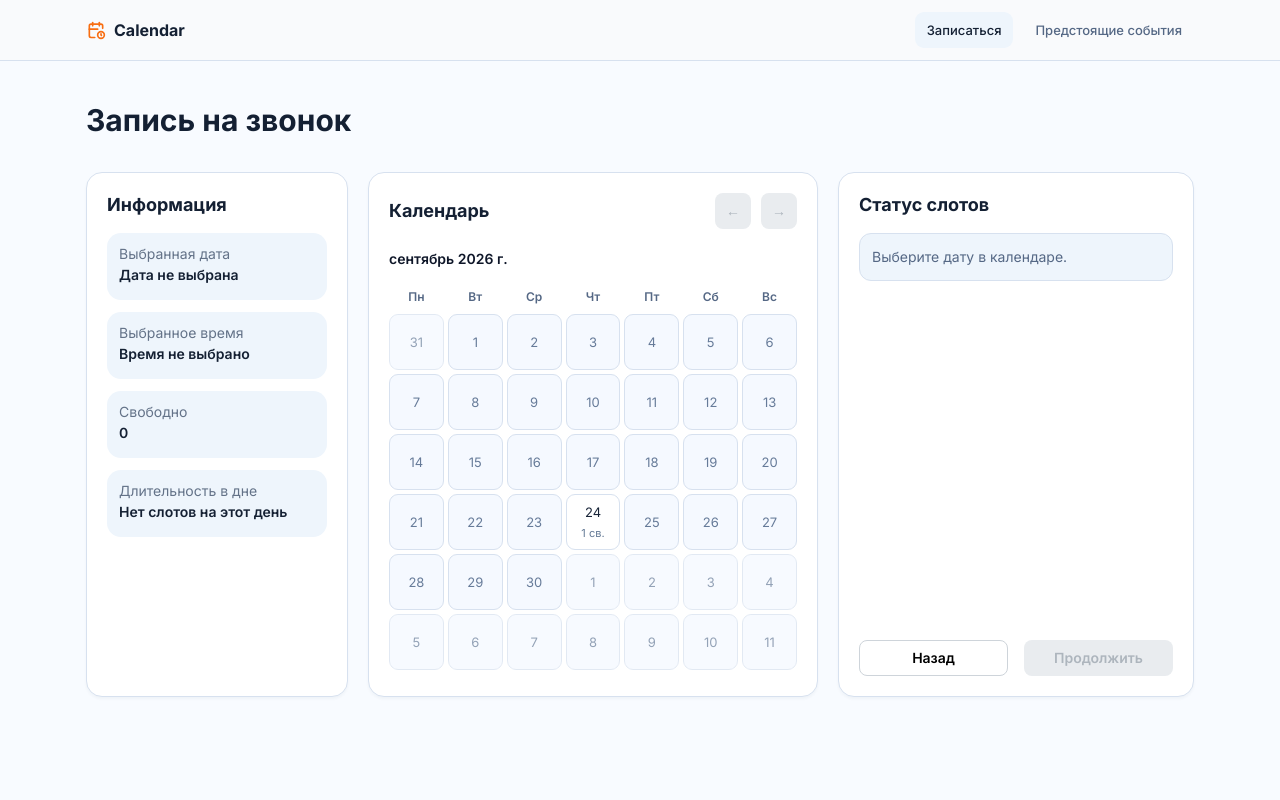
Test: calendar pages › hides stale slots after a conflict until availability can be reloaded
Click the button with aria-label "24 сентября": (593, 522) left=566, top=494, right=620, bottom=550
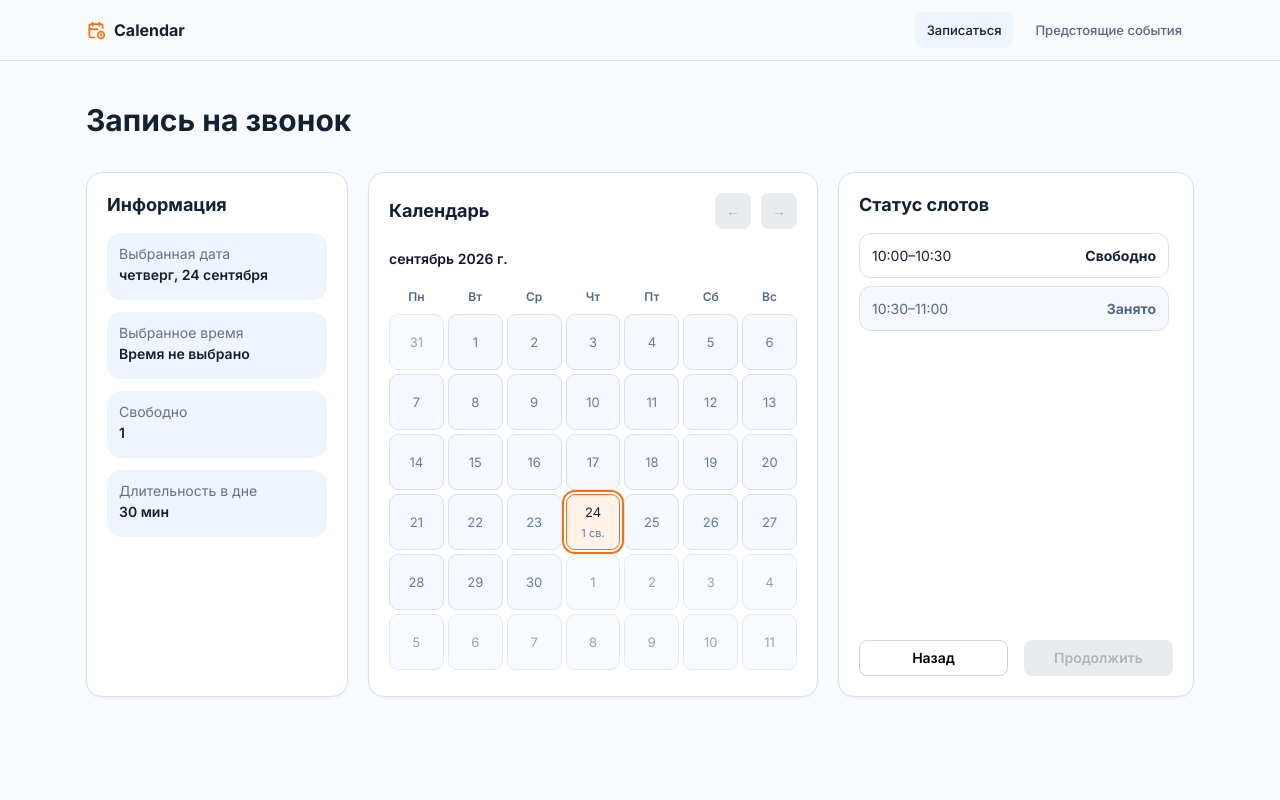
Click the button "10:00–10:30 Свободно": (890, 256) left=859, top=233, right=1169, bottom=278
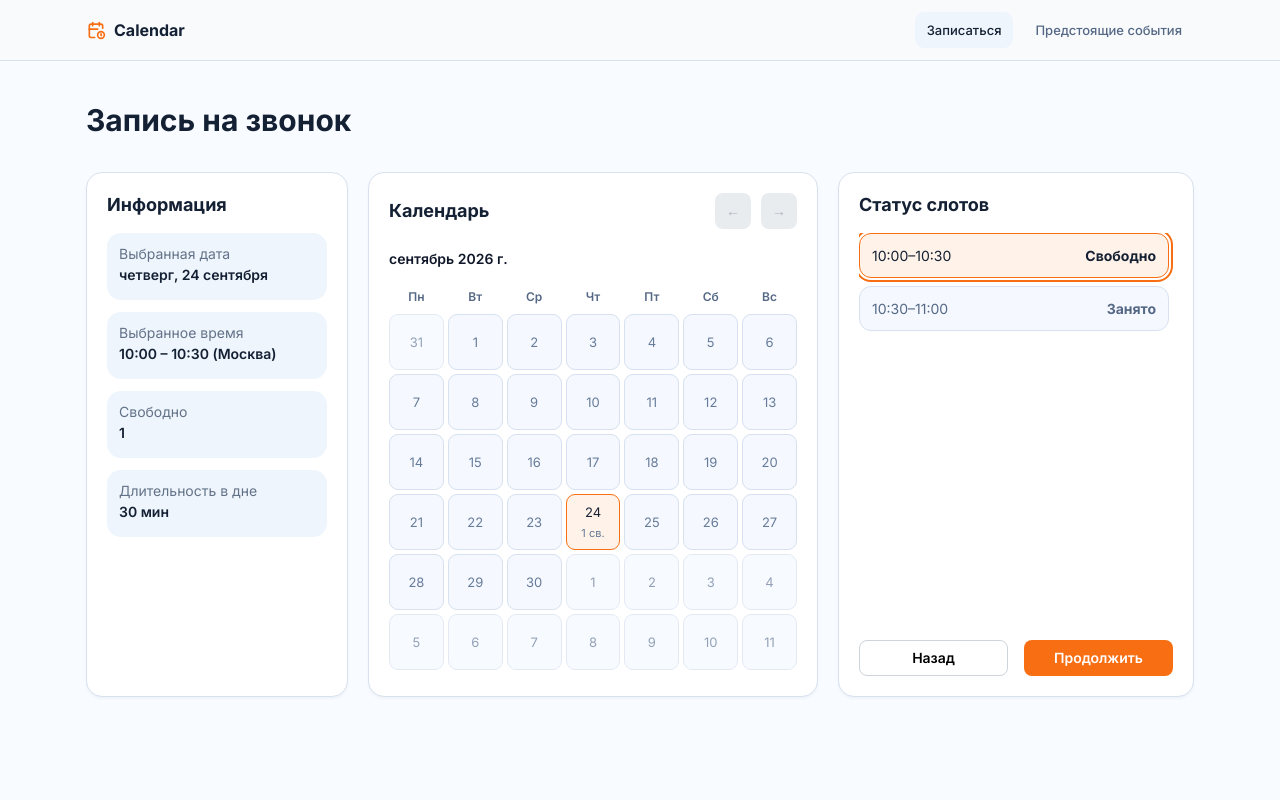
Click the button "Продолжить": (1098, 658) left=1024, top=640, right=1173, bottom=676
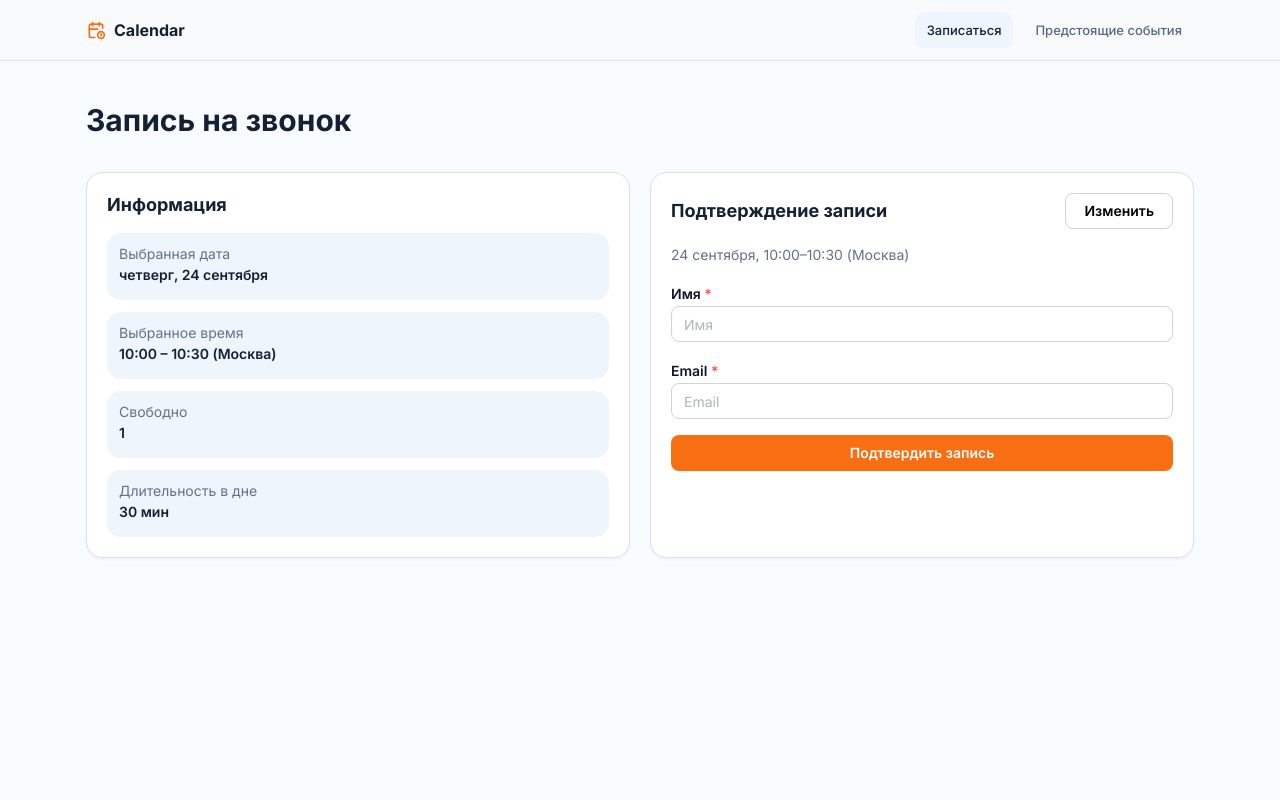
In the field labelled "Имя": (922, 324) left=671, top=306, right=1173, bottom=342, type "Guest"
In the field labelled "Email": (922, 401) left=671, top=383, right=1173, bottom=419, type "guest@example.com"
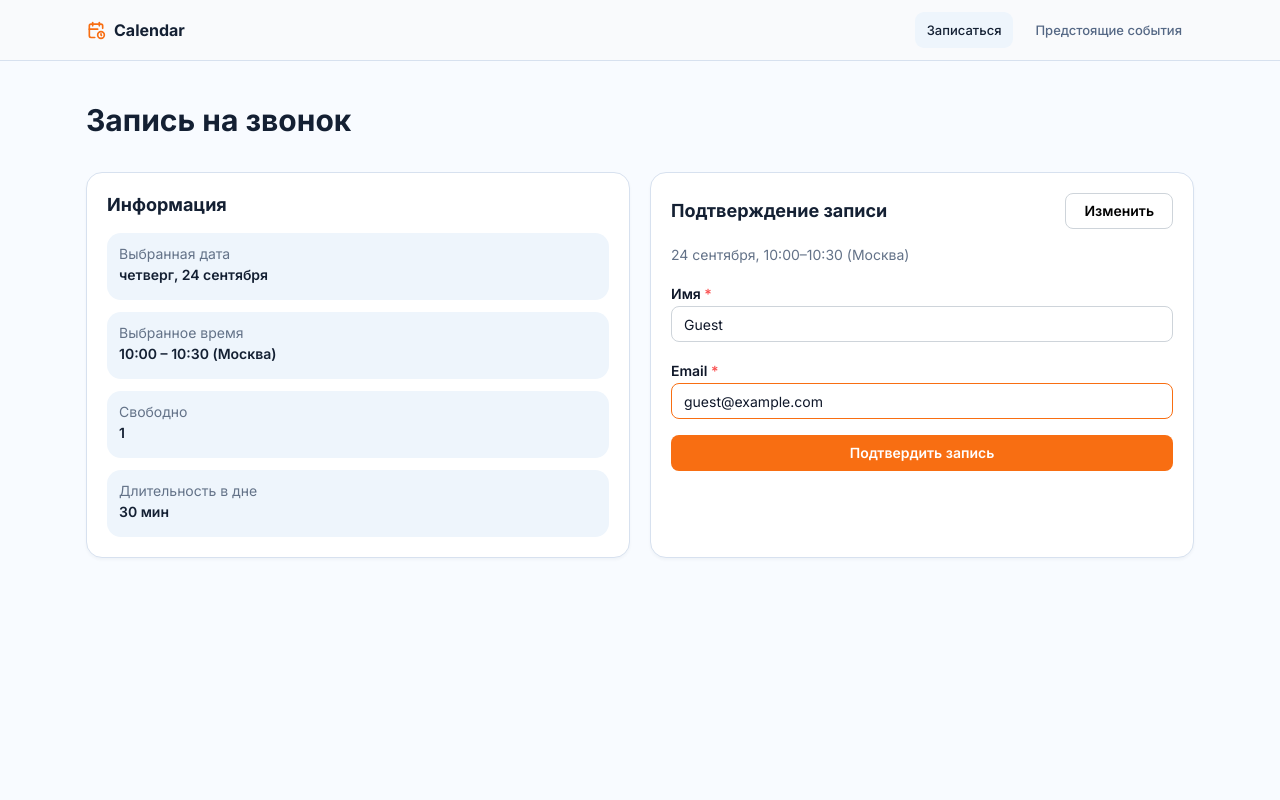
Click the button "Подтвердить запись": (922, 453) left=671, top=435, right=1173, bottom=471
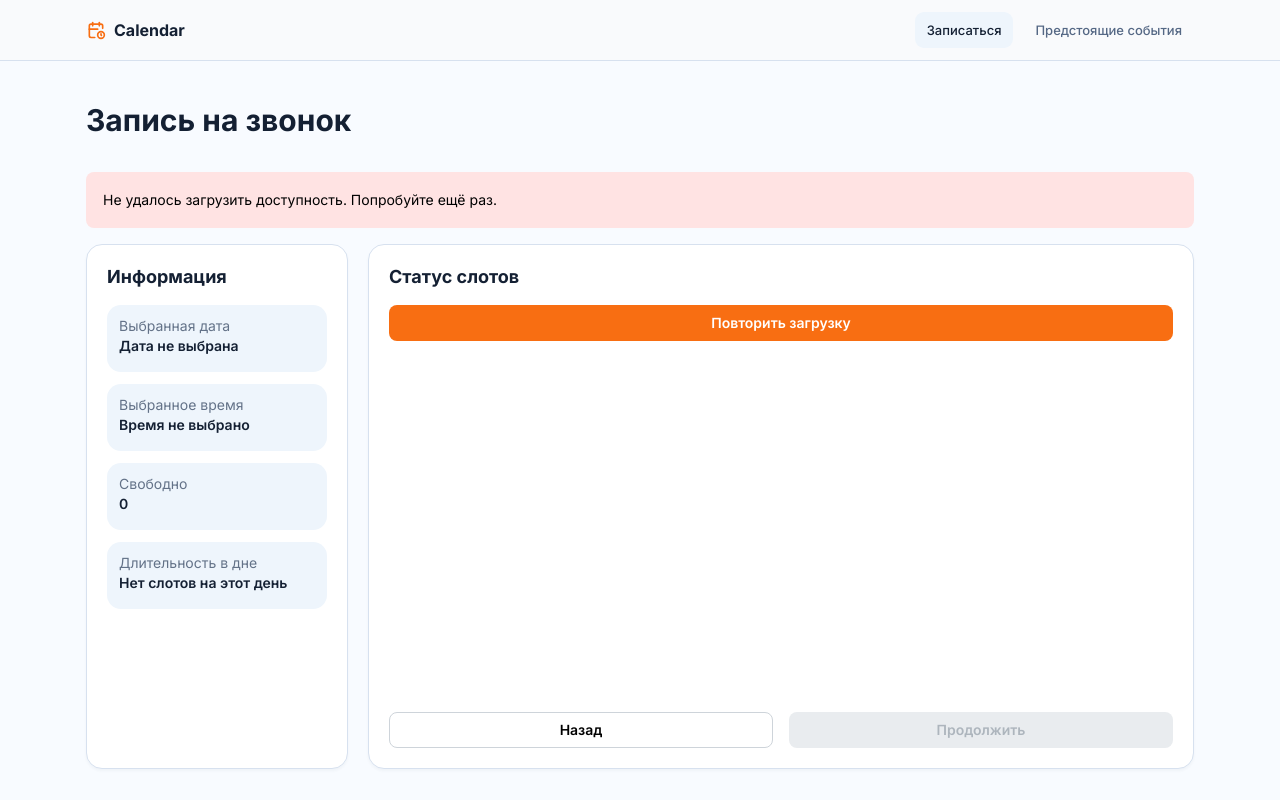
Expected: the button "Повторить загрузку" is shown
Click the button "Повторить загрузку": (781, 323) left=389, top=305, right=1173, bottom=341
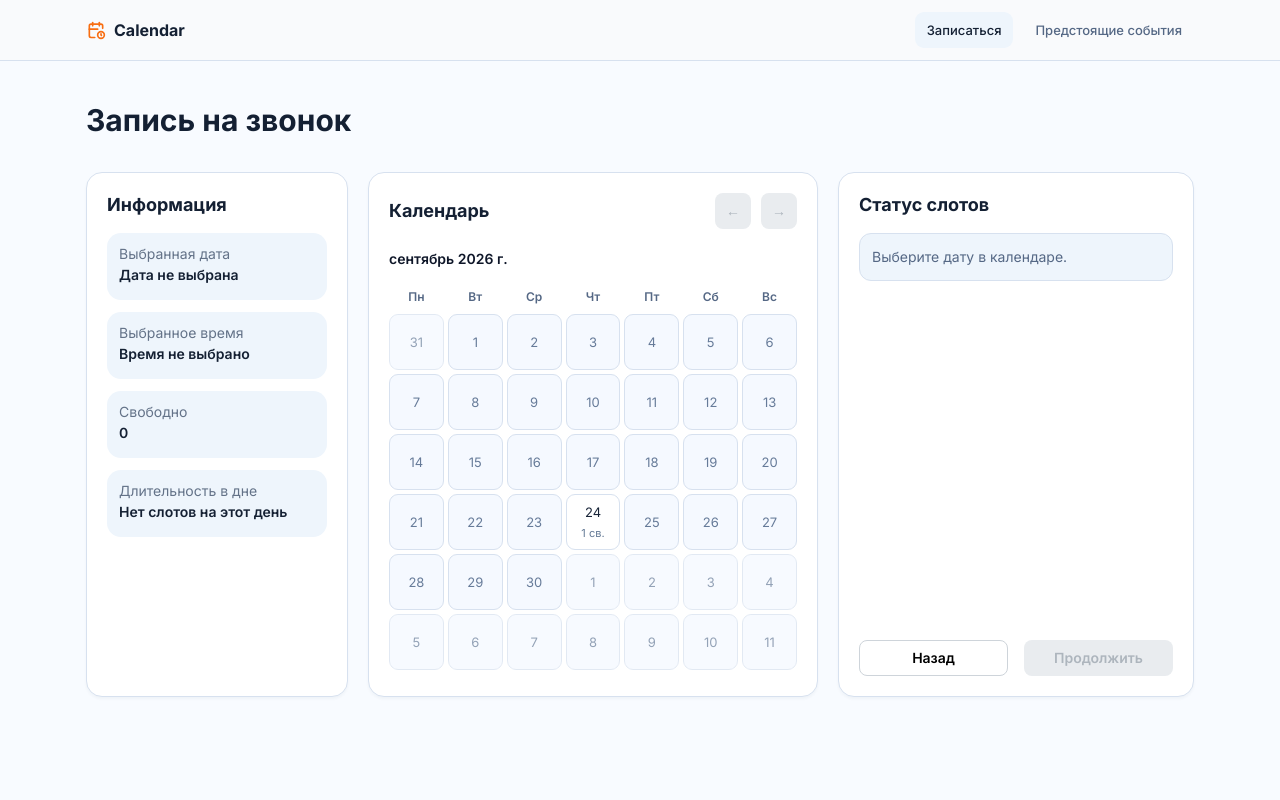
Expected: the button with aria-label "24 сентября" is shown, left=566, top=494, right=620, bottom=550
